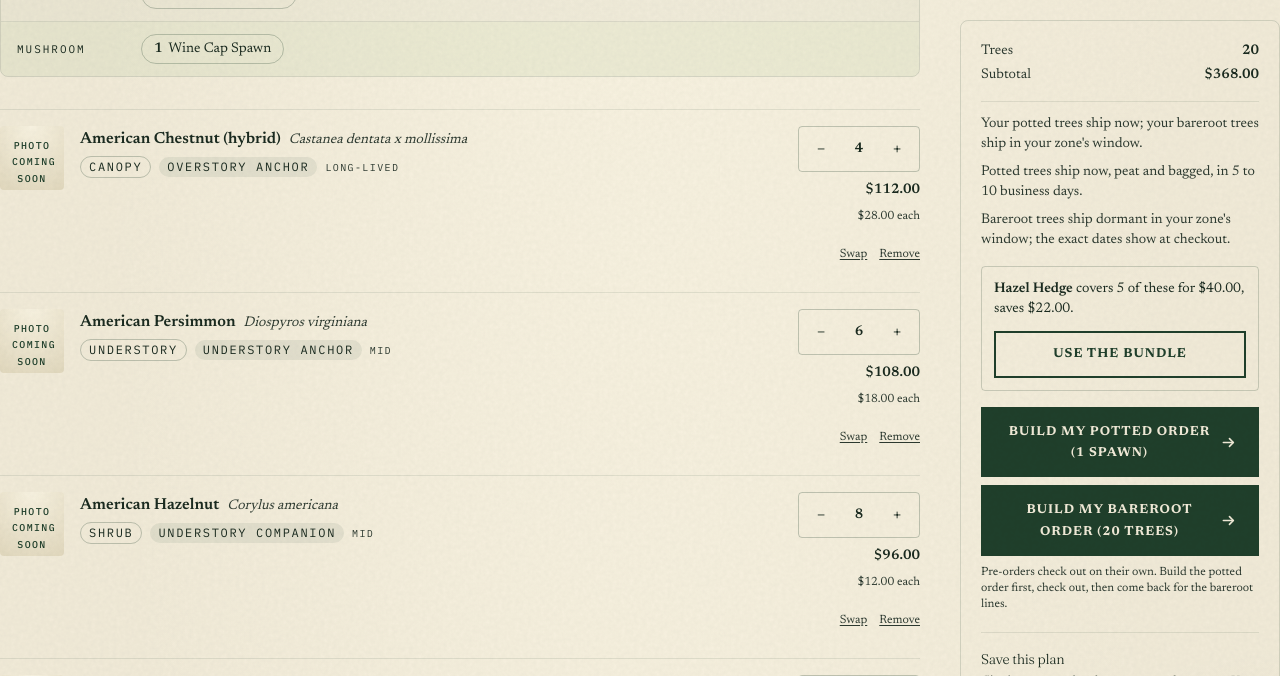
ResultCard: Build my order › adds every line to the cart store, posts one built signal first, and opens the mini cart
(page scrolled)
Check: the button "Build my potted order (1 spawn)" is shown, box [981,407,1259,478]
Click the button "Build my bareroot order (20 trees)" at (1109, 510), box [981,485,1259,556]
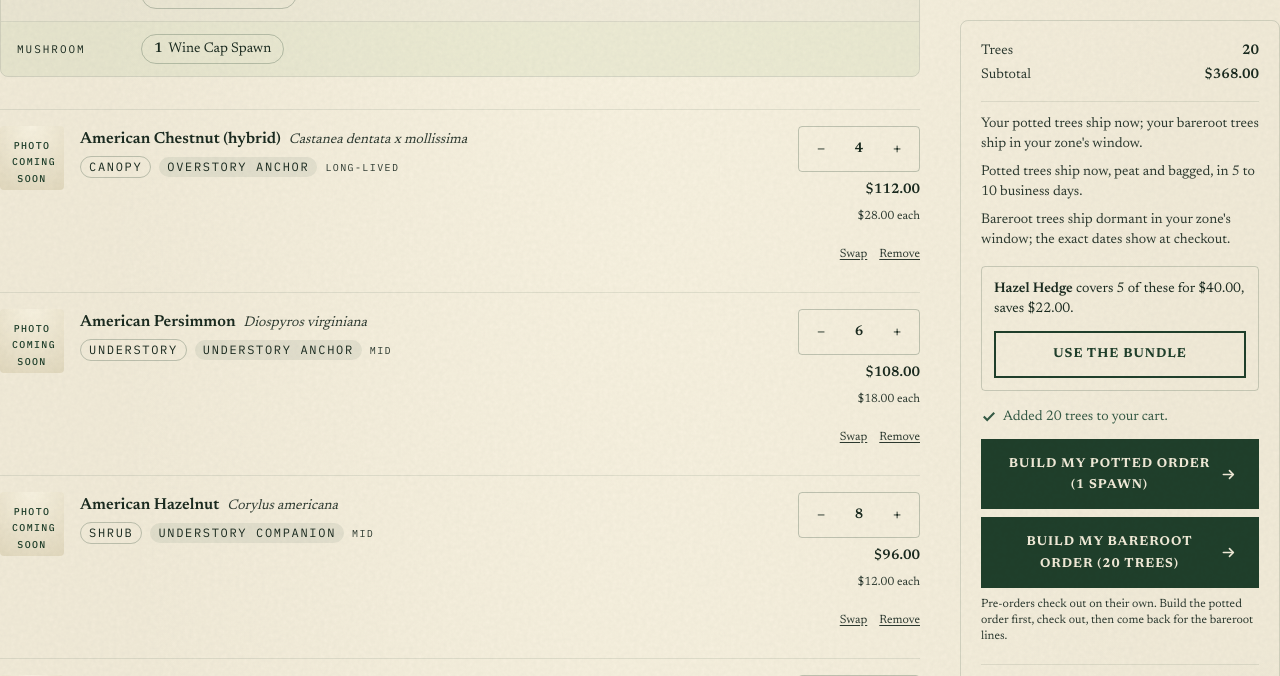
Check: the text "Added 20 trees to your cart." is shown, box [1003,407,1168,427]
